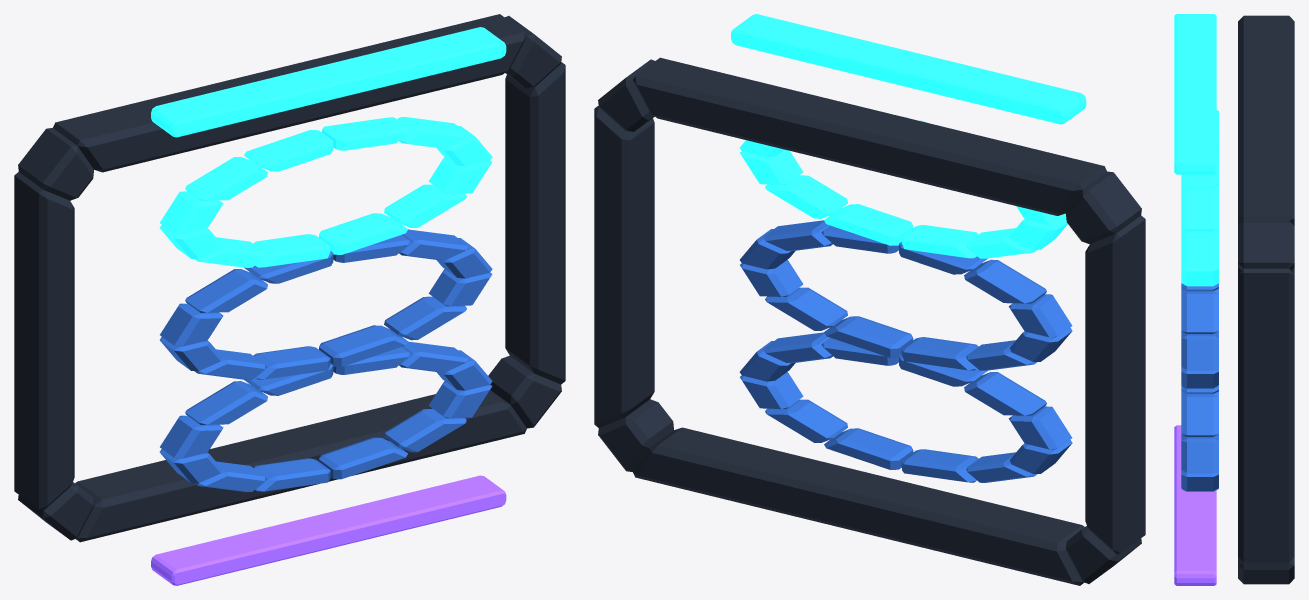
File: tech-postgresql.glb
3 views of the same model, side by side, from view 1: azimuth 30°, elevation 25°; view 2: azimuth 150°, elevation 25°; view 3: azimuth 270°, elevation 25° (orthographic). The views are drawn at different scales.
Parts seen in each view (by area): view 1: tech-postgresql_SystemMaterial, tech-postgresql_CoreMaterial, tech-postgresql_SignalMaterial, tech-postgresql_AccentMaterial; view 2: tech-postgresql_SystemMaterial, tech-postgresql_CoreMaterial, tech-postgresql_SignalMaterial; view 3: tech-postgresql_SystemMaterial, tech-postgresql_SignalMaterial, tech-postgresql_CoreMaterial, tech-postgresql_AccentMaterial.
Boxes of the visible parts, <box> form: tech-postgresql_SystemMaterial: <box>14,14,565,542</box>; tech-postgresql_CoreMaterial: <box>159,229,492,491</box>; tech-postgresql_SignalMaterial: <box>151,27,506,267</box>; tech-postgresql_AccentMaterial: <box>151,475,506,585</box>; tech-postgresql_SystemMaterial: <box>594,57,1145,585</box>; tech-postgresql_CoreMaterial: <box>739,220,1072,482</box>; tech-postgresql_SignalMaterial: <box>731,14,1086,258</box>; tech-postgresql_SystemMaterial: <box>1238,15,1294,584</box>; tech-postgresql_SignalMaterial: <box>1174,14,1218,286</box>; tech-postgresql_CoreMaterial: <box>1181,283,1218,491</box>; tech-postgresql_AccentMaterial: <box>1174,425,1216,585</box>.
Size of the model in its own units: 1.18 by 0.995 by 0.255.
